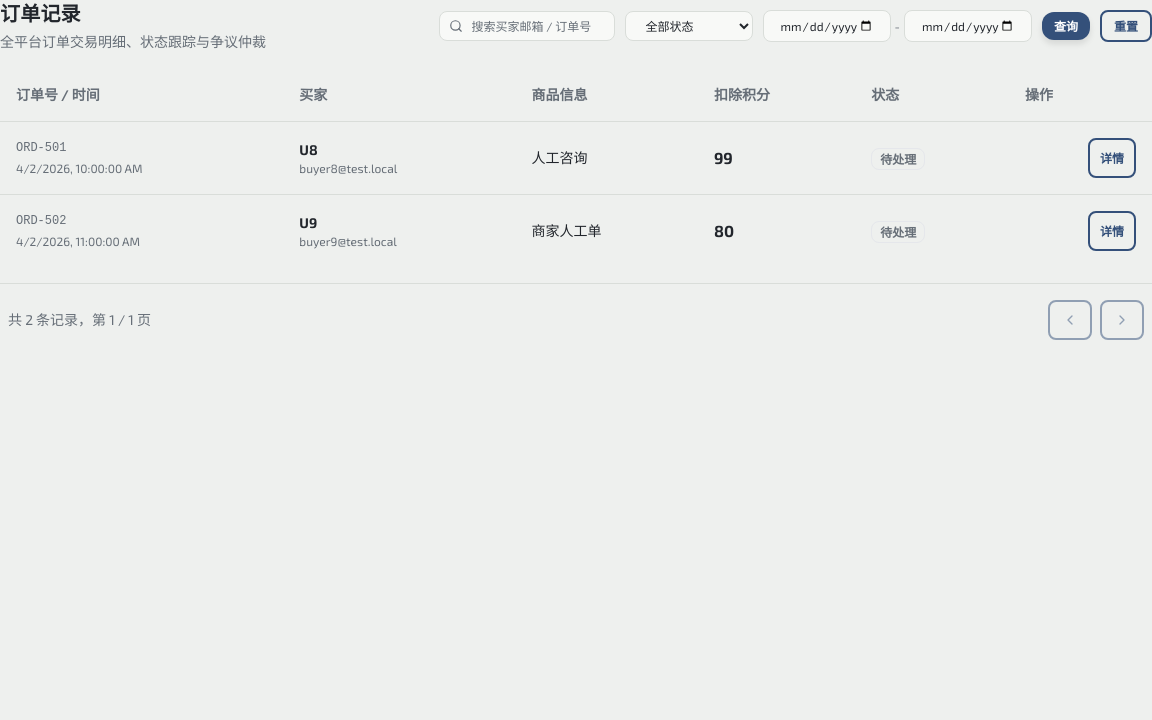
Test: AdminOrderTable platform fulfillment › does not render for merchant order
Click the button with test id "admin-order-detail-502". click: click(1112, 231)
box: [1088,211,1136,251]
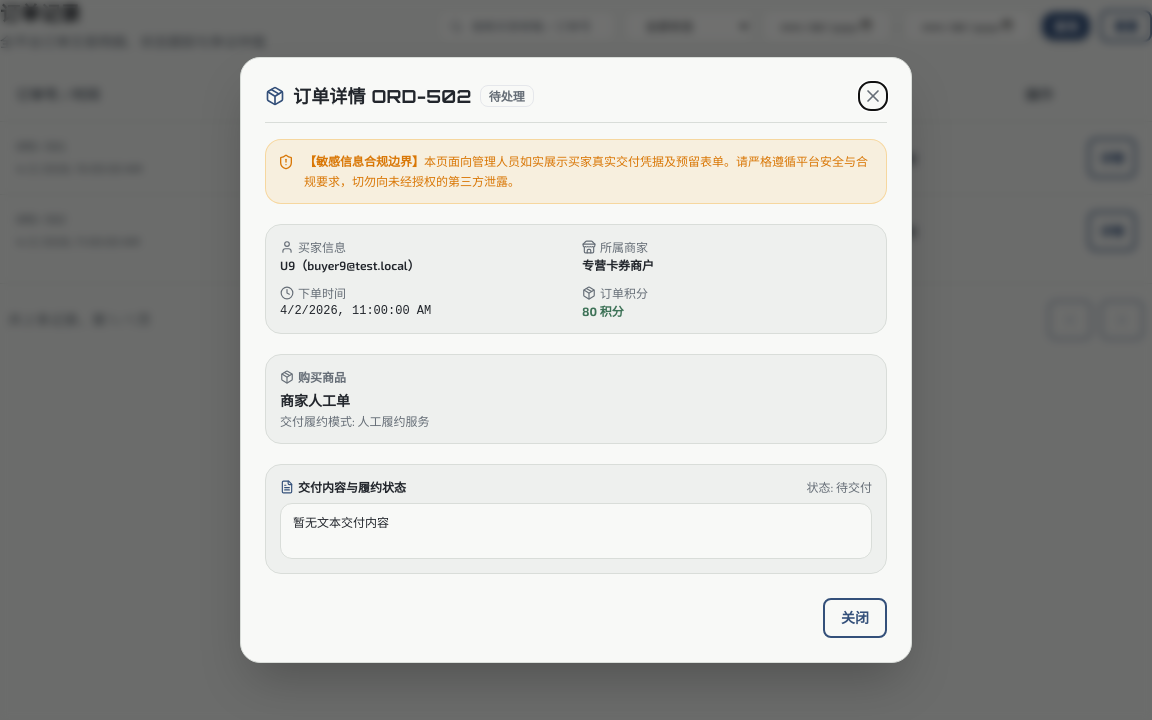
Now the dialog with test id "admin-order-detail-dialog" is shown, box [240,57,912,663]
